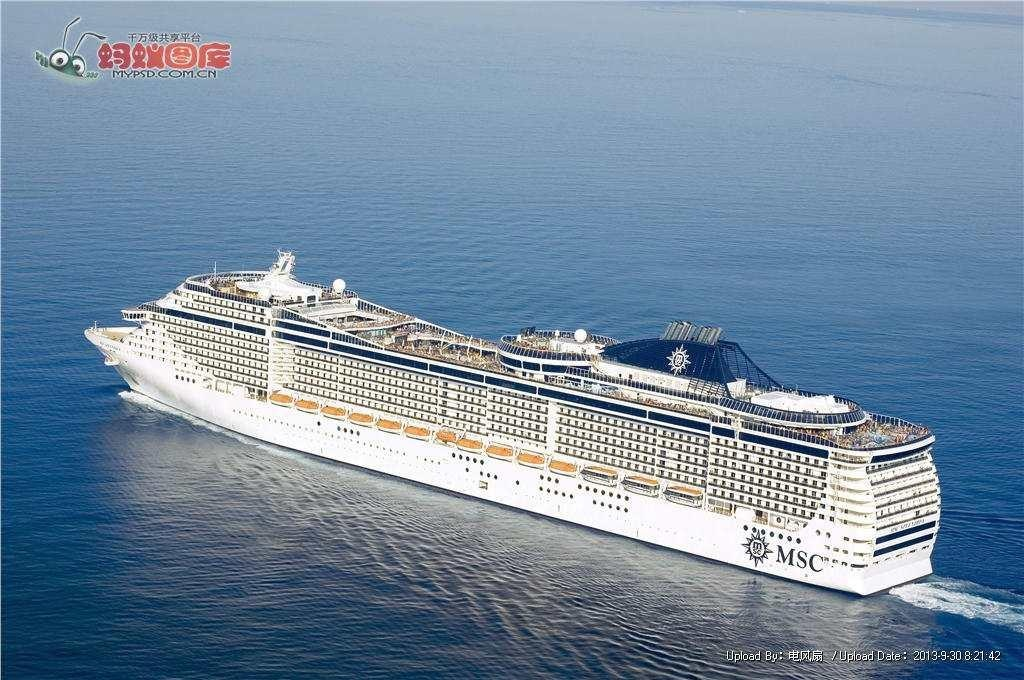youlun: (78, 248, 942, 594)
